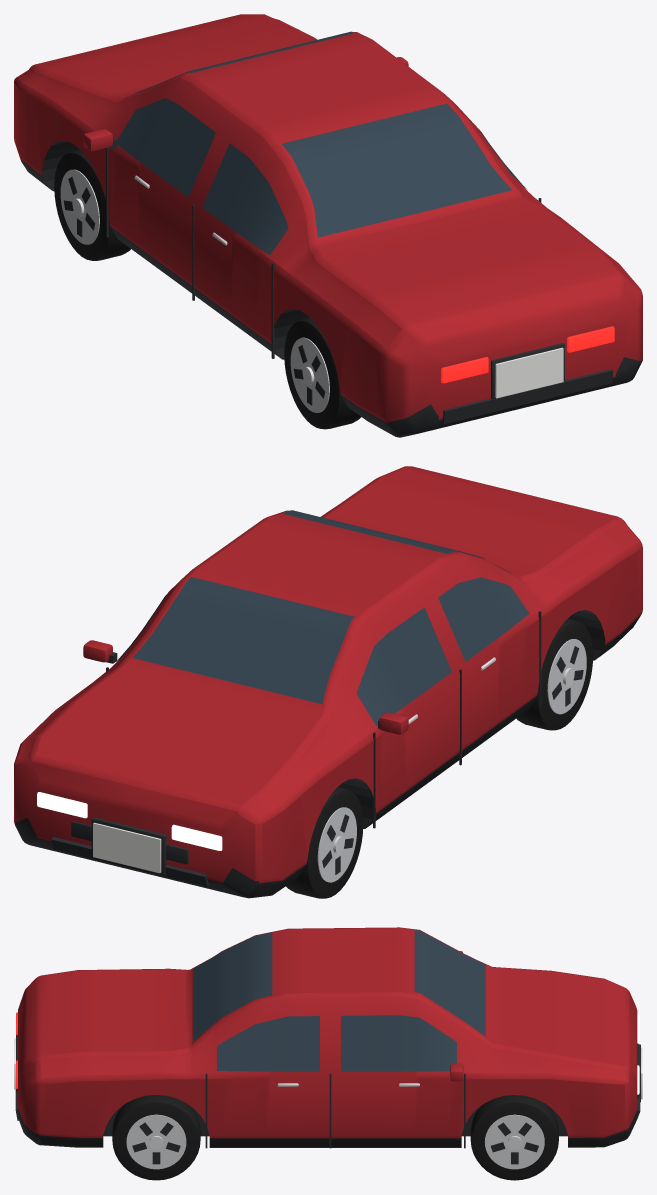
The model's file is sedan.glb.
3 renders of one model, top to bottom at view 1: azimuth 30°, elevation 25°; view 2: azimuth 150°, elevation 25°; view 3: azimuth 270°, elevation 25°, orthographic. The views are drawn at different scales.
Parts seen in each view (by area): view 1: CAR_sedan; view 2: CAR_sedan; view 3: CAR_sedan.
Boxes of the visible parts, x1=… form: CAR_sedan: x1=14, y1=14, x2=642, y2=437; CAR_sedan: x1=14, y1=466, x2=642, y2=898; CAR_sedan: x1=14, y1=927, x2=642, y2=1180.
Bounding box in the file's own units: 2.18 × 1.45 × 4.77.
